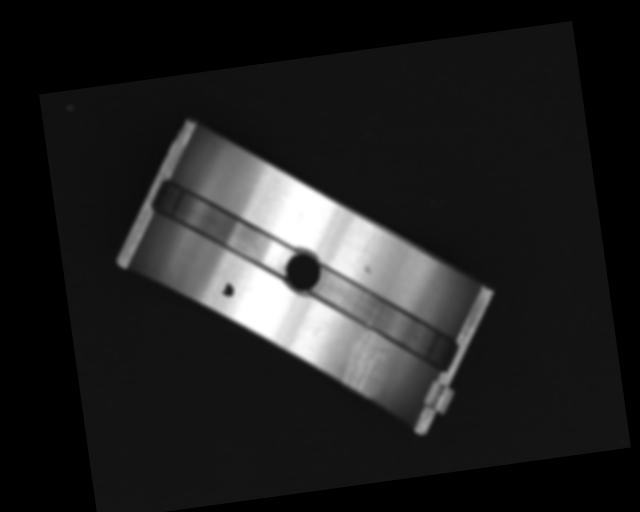blot: (220, 281, 235, 299)
bruise: (363, 264, 373, 274)
gap: (309, 254, 460, 388), (148, 164, 296, 290)
hole: (282, 247, 323, 294)
scratch: (335, 322, 395, 401)
